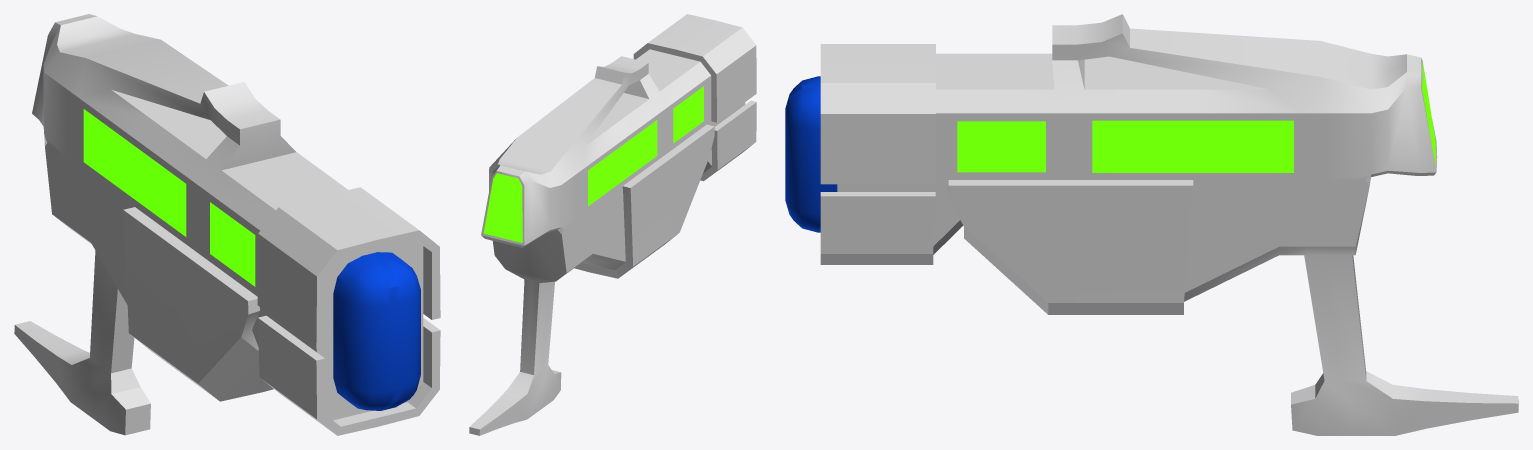
File: Bazuka_Variant.fbx
3 views of the same model, side by side, from view 1: azimuth 30°, elevation 25°; view 2: azimuth 150°, elevation 25°; view 3: azimuth 270°, elevation 25° (orthographic). The views are drawn at different scales.
Visible parts, largest first — view 1: Bazuka; view 2: Bazuka; view 3: Bazuka.
Boxes of the visible parts, bbox=[...] form: Bazuka: bbox=[14, 14, 440, 435]; Bazuka: bbox=[469, 14, 756, 435]; Bazuka: bbox=[785, 14, 1518, 435].
Bounding box in the file's own units: 0.4495 × 1.37 × 2.24.
